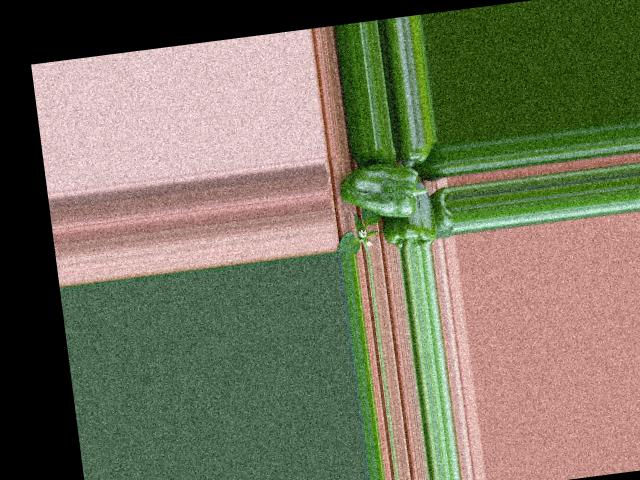bell_pepper: (401, 139, 441, 169)
